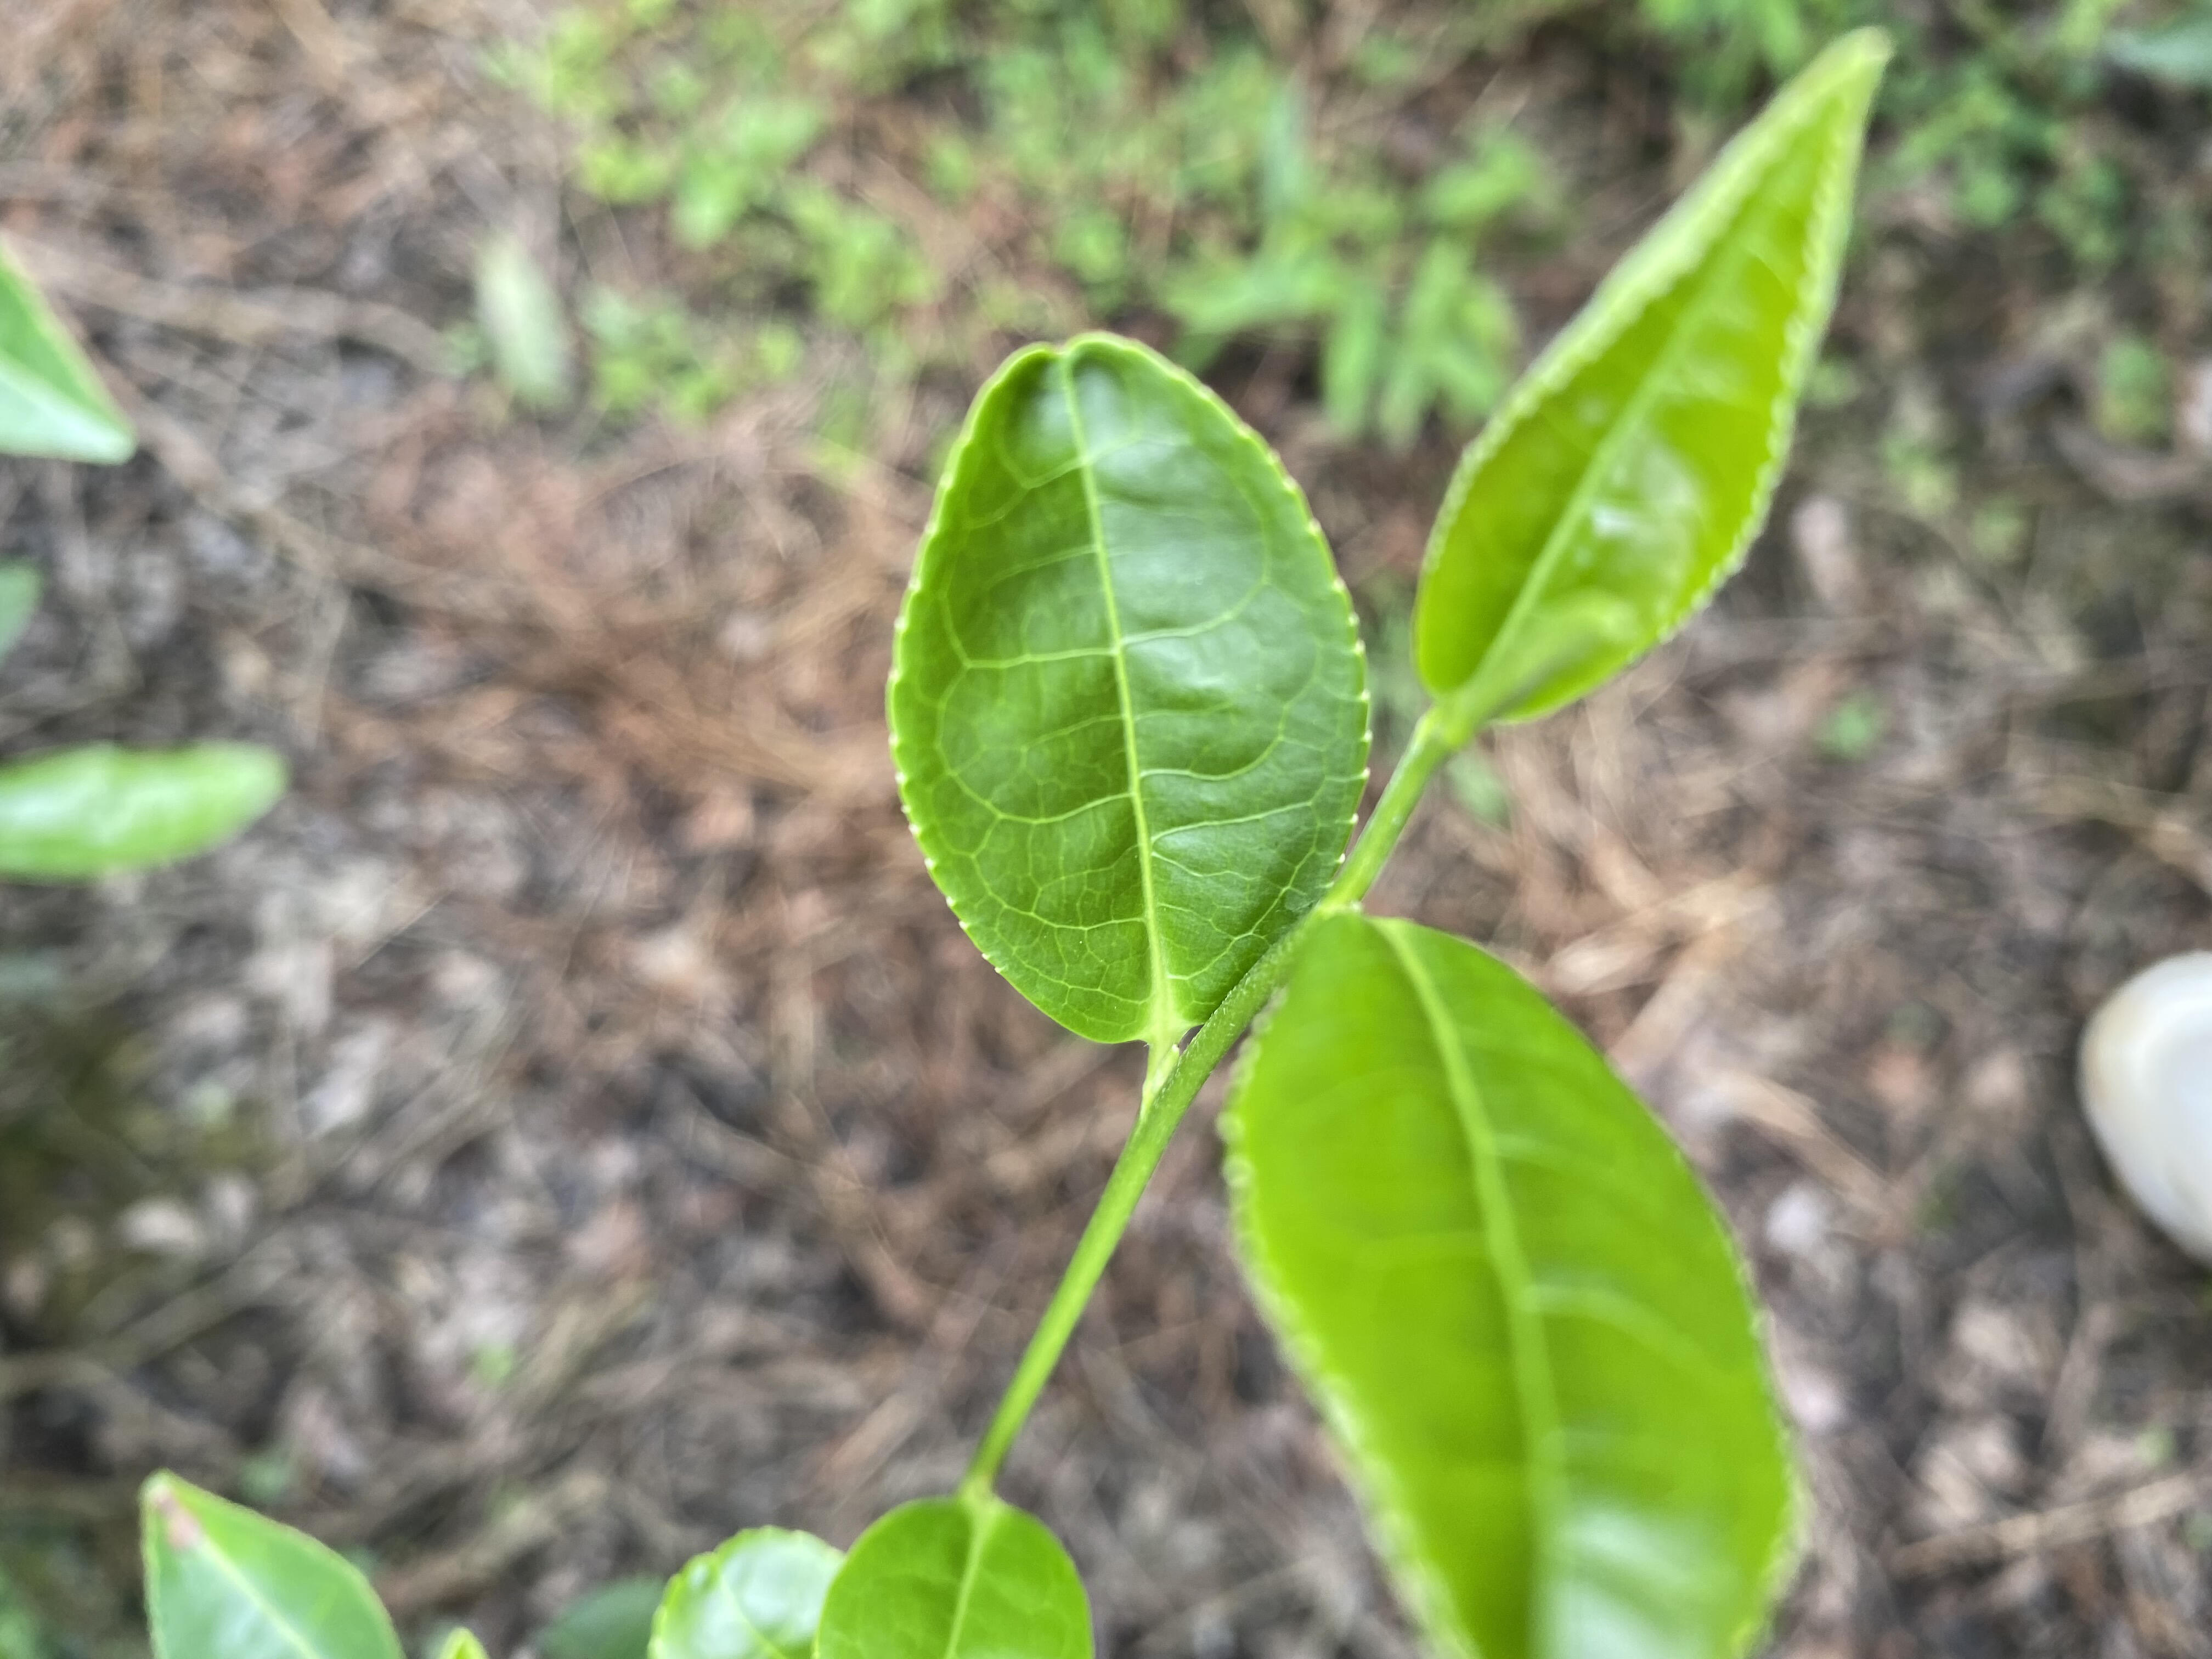healthy: (1224, 910, 1794, 1659), (887, 335, 1371, 1047), (1414, 35, 1890, 727)
